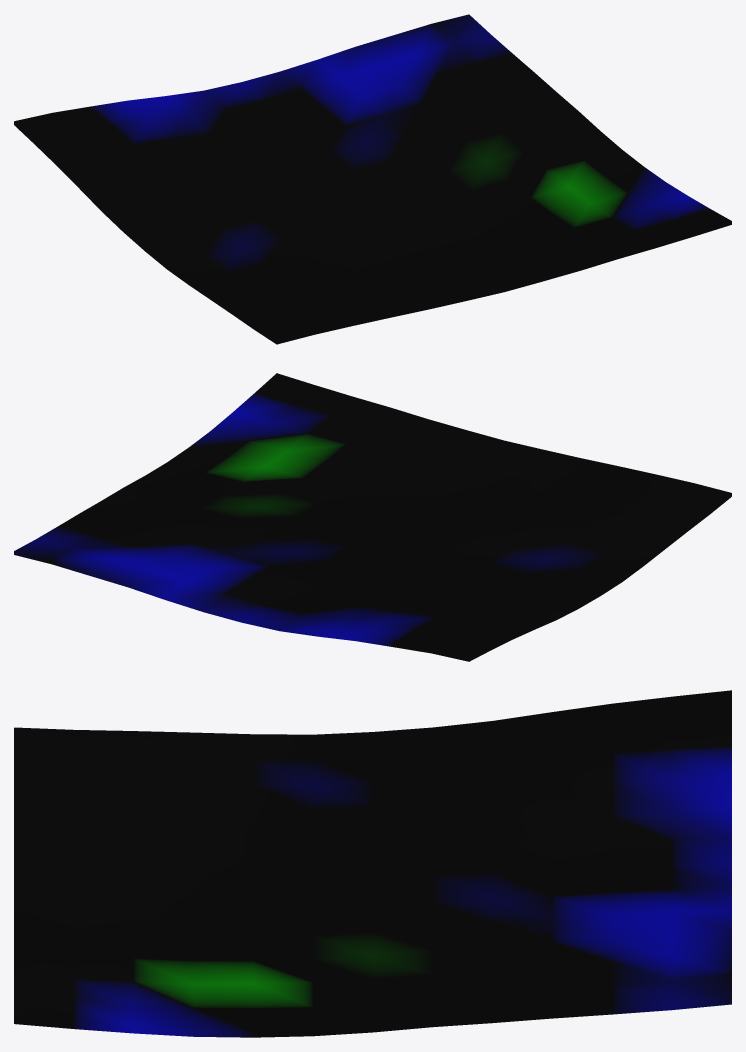
File: coast_8_3.glb
The picture shows the model from 3 angles, top to bottom: view 1: azimuth 30°, elevation 25°; view 2: azimuth 150°, elevation 25°; view 3: azimuth 270°, elevation 25°; orthographic projection. The views are drawn at different scales.
Visible parts, largest first — view 1: terrain; view 2: terrain; view 3: terrain.
Part boxes in pixels (<box>): terrain: <box>14,14,731,344</box>; terrain: <box>14,373,731,661</box>; terrain: <box>14,690,731,1037</box>.
Size of the model in its own units: 192 by 14.59 by 192.
